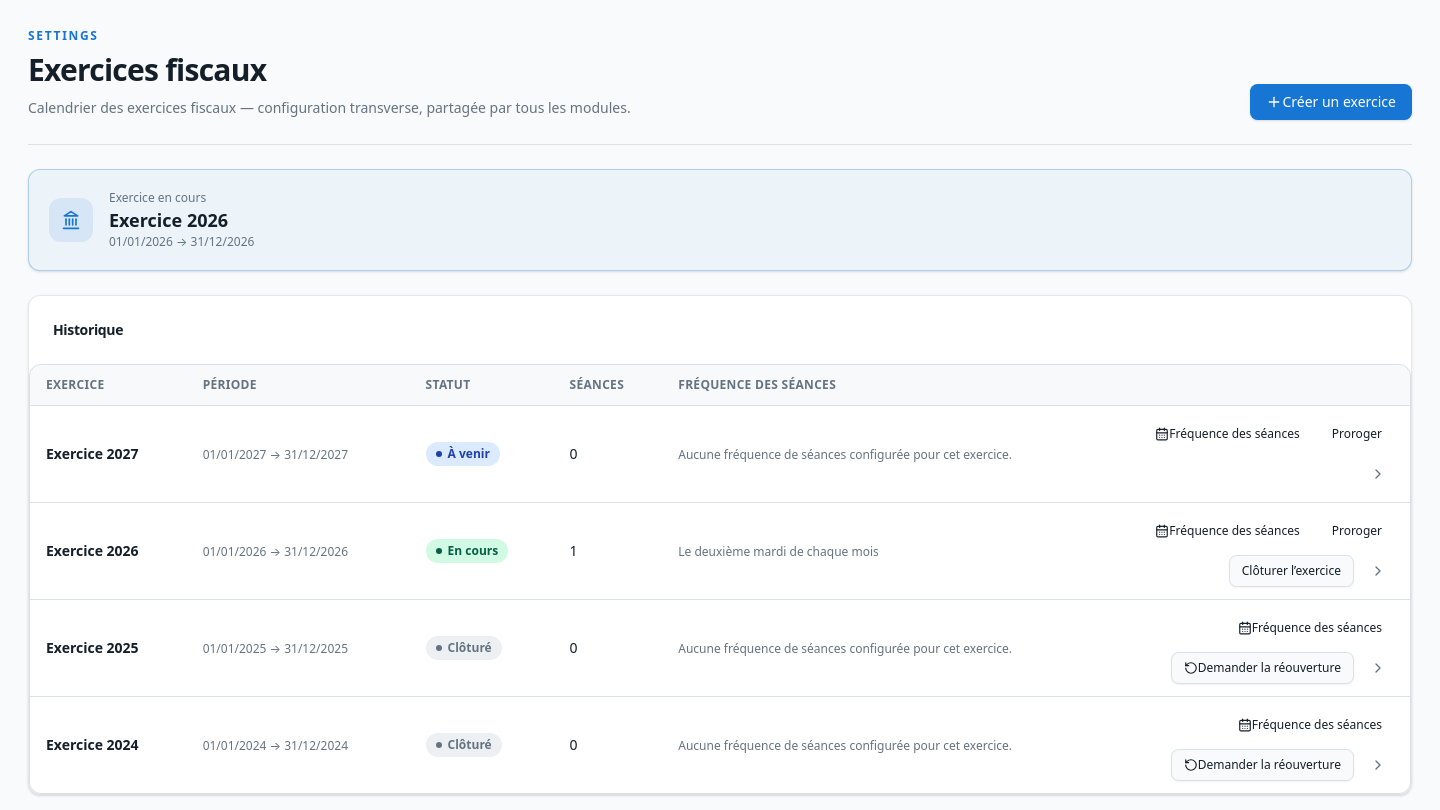
Exercices fiscaux — flèche de navigation vers la fiche › les autres actions de la ligne restent en place et ne déclenchent pas la navigation
Expected: the button "Proroger" in the row of "Le deuxième mardi de chaque mois" is shown, x1=1320 y1=515 x2=1394 y2=547
Expected: the button "Clôturer l’exercice" is shown, x1=1229 y1=555 x2=1354 y2=587
Click the button "Fréquence des séances" in the row of "Le deuxième mardi de chaque mois" at (1228, 531), box x1=1143 y1=515 x2=1312 y2=547
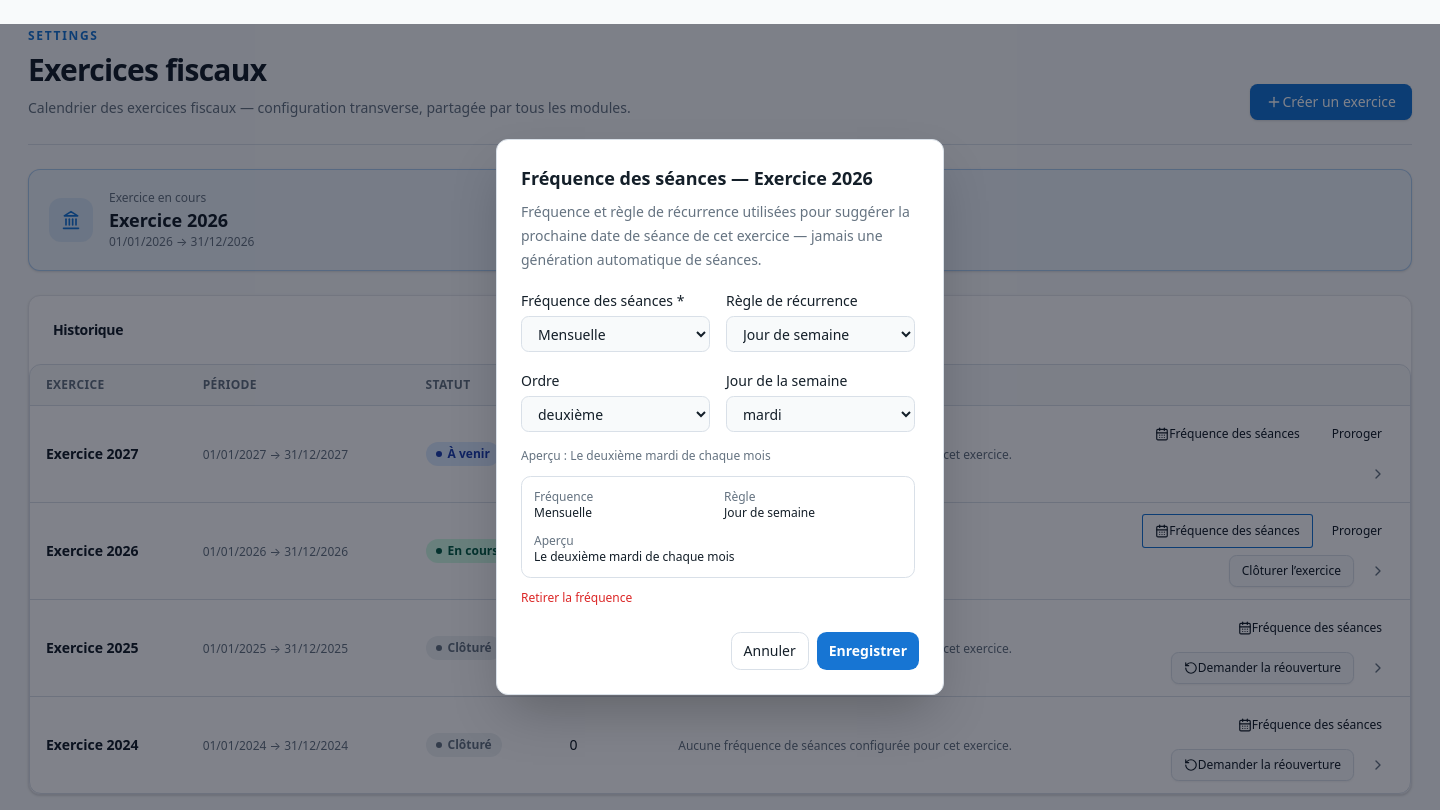
Expected: the button "Demander la réouverture" is shown, x1=1171 y1=652 x2=1354 y2=684
Now the dialog is shown, box x1=496 y1=139 x2=944 y2=695
